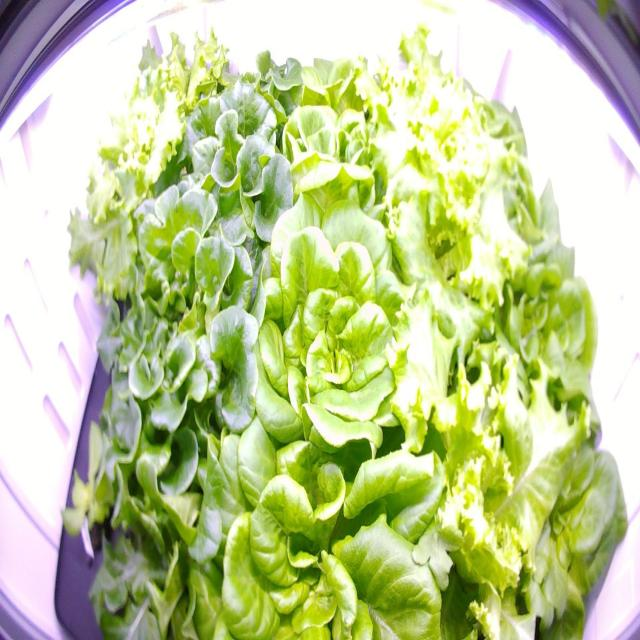Ready: (175, 346, 467, 640), (224, 176, 447, 473), (438, 224, 616, 451), (465, 422, 632, 640), (259, 97, 406, 256), (268, 41, 394, 185)
young: (46, 407, 132, 572)
